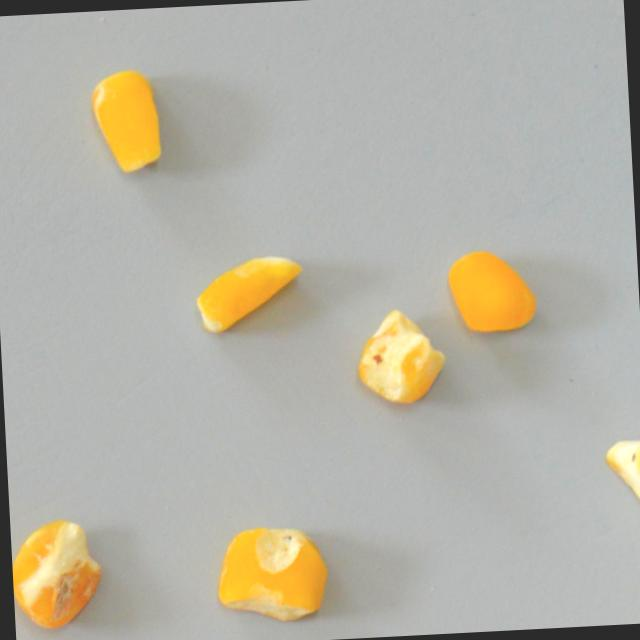dañado: (10, 516, 106, 633), (353, 307, 450, 410), (447, 244, 541, 341)
estandar: (194, 250, 311, 337)
pelicula: (90, 59, 169, 175)
punto_negro: (214, 519, 335, 631), (600, 428, 640, 544)
